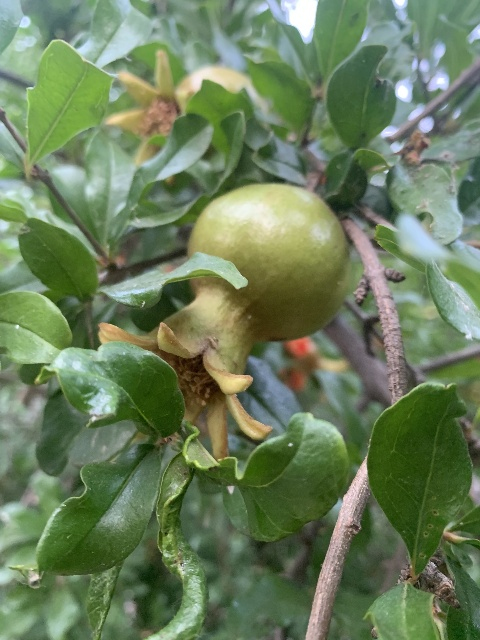mid-growth: (95, 182, 354, 455), (106, 49, 249, 180)
